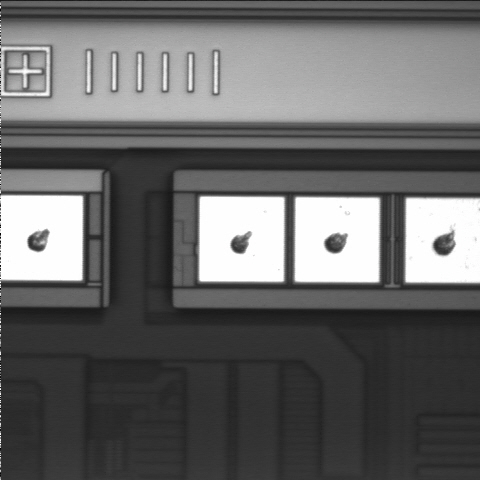pad: (199, 197, 284, 282), (295, 197, 380, 282)
